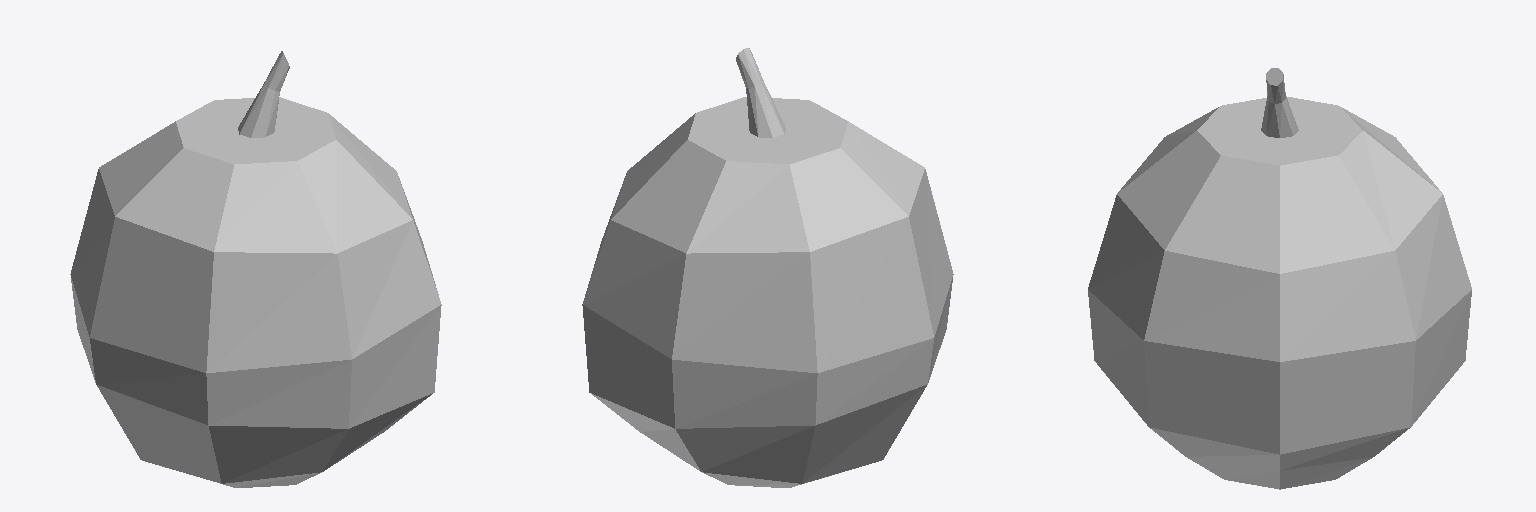
The model's file is Pumpkin.obj.
3 views of the same model, side by side, from view 1: azimuth 30°, elevation 25°; view 2: azimuth 150°, elevation 25°; view 3: azimuth 270°, elevation 25° (orthographic).
Parts seen in each view (by area): view 1: Circle; view 2: Circle; view 3: Circle.
Boxes of the visible parts, box(x1,y1,x2,y2) form: Circle: box(70, 51, 441, 487); Circle: box(582, 48, 953, 487); Circle: box(1088, 68, 1471, 489).
Size of the model in its own units: 1.62 by 1.86 by 1.62.